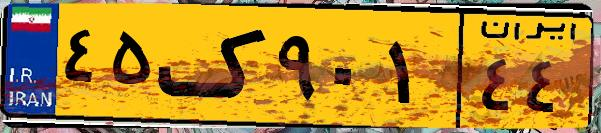0: (330, 28, 385, 110)
1: (385, 28, 445, 110)
4: (57, 26, 110, 100), (475, 38, 525, 113), (525, 38, 570, 115)
5: (110, 28, 158, 98)
9: (270, 28, 330, 110)
ک: (158, 12, 270, 120)
